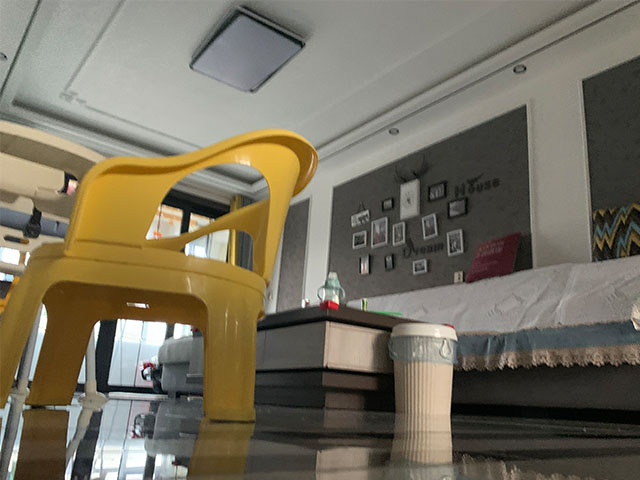sofa: (343, 252, 640, 414)
stool: (1, 128, 321, 424)
table: (184, 302, 456, 413)
trashcan: (389, 323, 459, 415)
